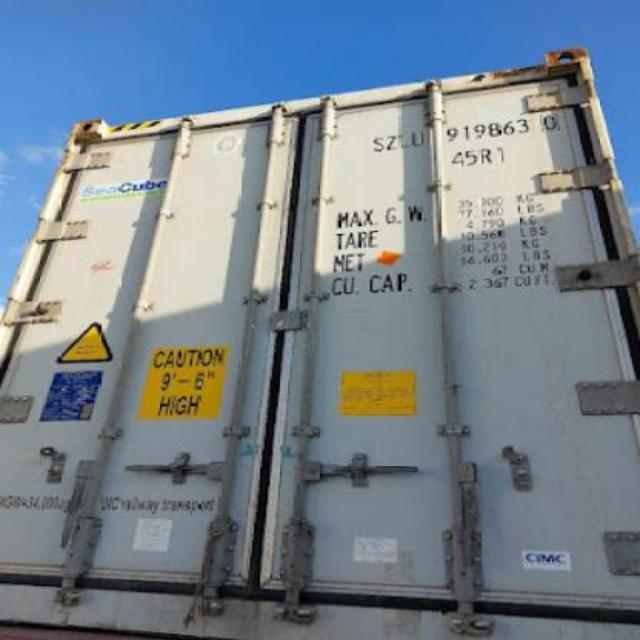0: (542, 112, 568, 138)
1: (458, 118, 472, 142)
3: (516, 115, 530, 139)
6: (500, 115, 516, 141)
8: (486, 116, 502, 140)
9: (470, 117, 486, 143), (444, 118, 458, 144)
L: (394, 129, 410, 153)
S: (368, 133, 384, 153)
U: (408, 126, 424, 152)
Z: (382, 132, 398, 154)
